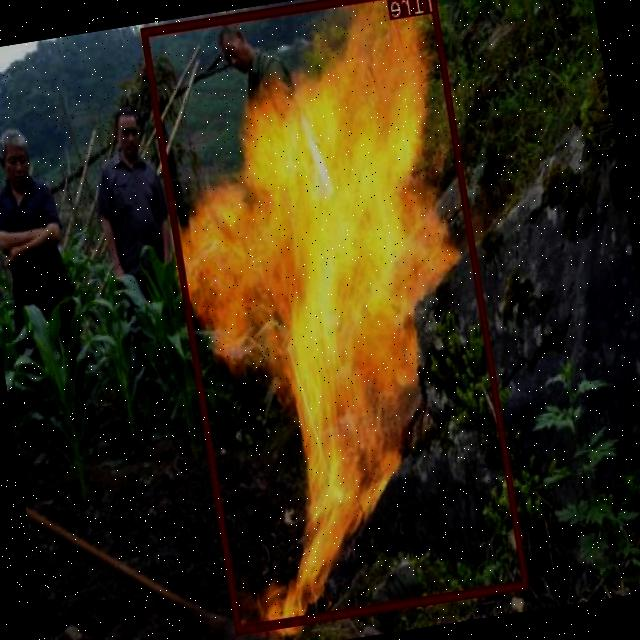fire: (141, 0, 530, 633)
